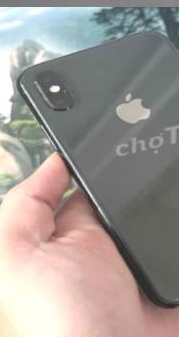scratch: (54, 82, 74, 100), (137, 151, 157, 165)
